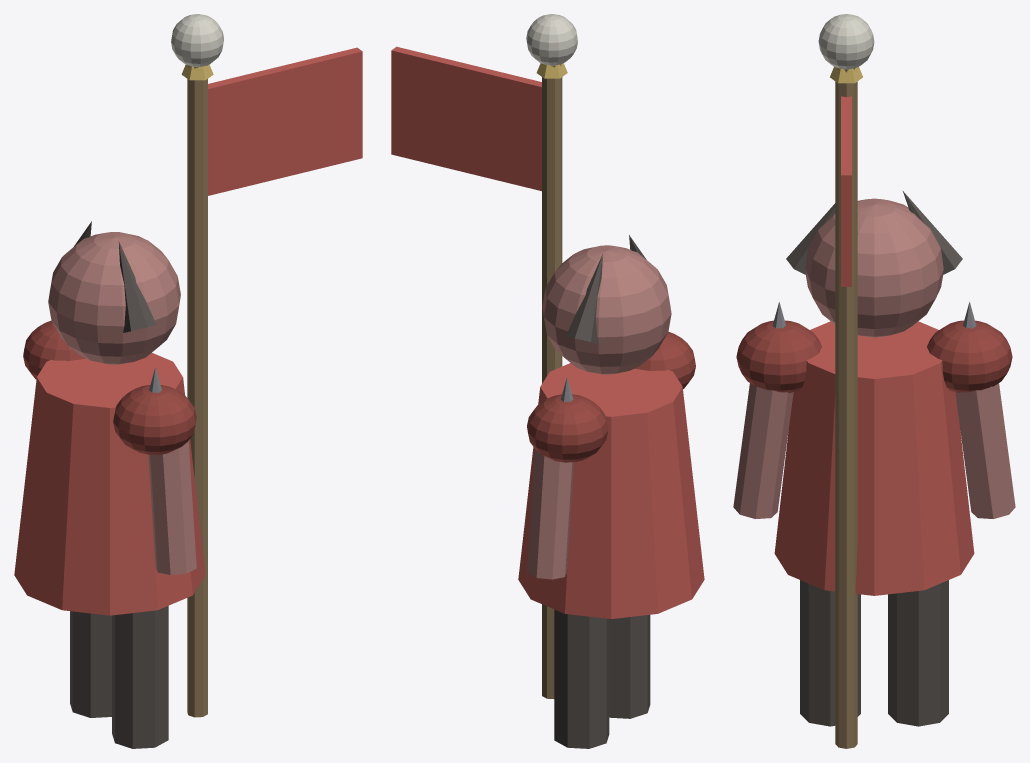
File: hero_horda_4.glb
3 renders of one model, left to right at view 1: azimuth 30°, elevation 25°; view 2: azimuth 150°, elevation 25°; view 3: azimuth 270°, elevation 25°, orthographic. The views are drawn at different scales.
Parts seen in each view (by area): view 1: figurka; view 2: figurka; view 3: figurka.
Part boxes in pixels (x1,y1,x2,y2): figurka: (14,14,362,748); figurka: (391,14,704,748); figurka: (733,14,1015,748).
Size of the model in its own units: 0.6885 by 1.44 by 0.5044.
